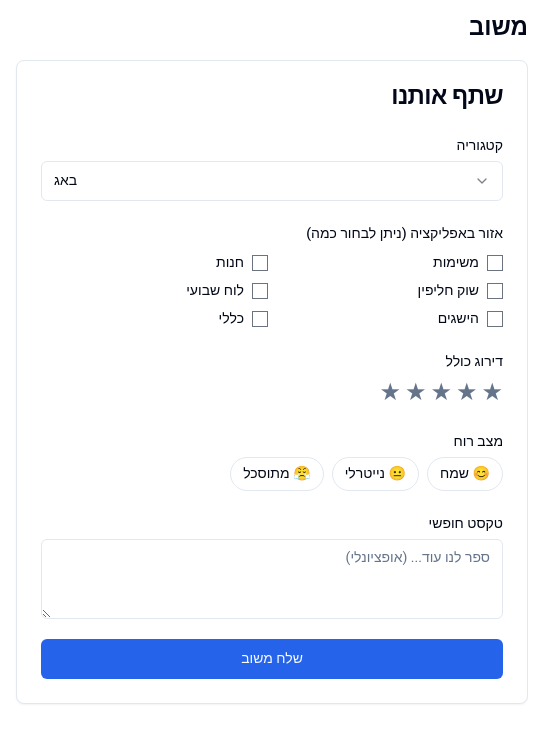
FeedbackPage › shows error message when insert fails
The image size is (540, 732).
Click the button named "2 כוכבים": (467, 393) [456,377,478,409]
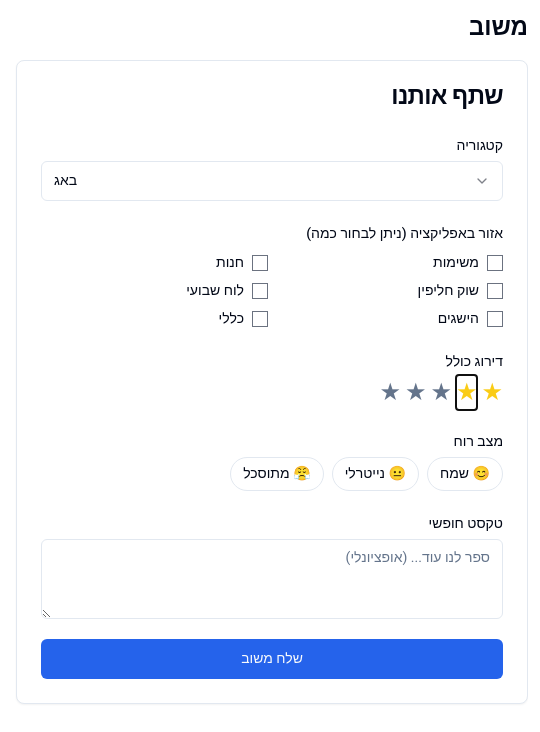
Click the button "😐 נייטרלי": (375, 474) [332,457,419,491]
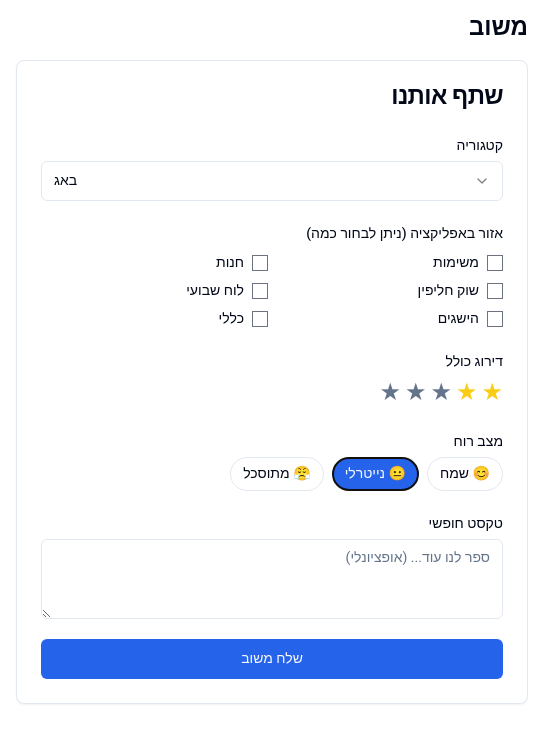
Click the button "שלח משוב": (272, 659) [41,639,503,679]
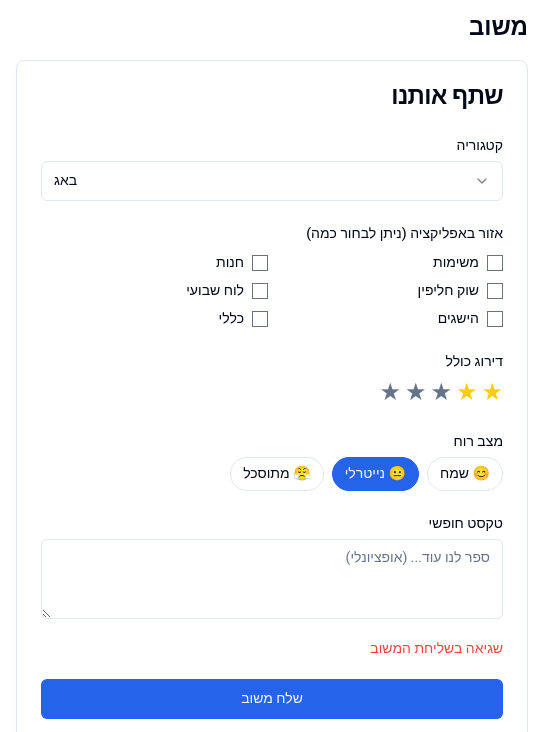
Now the message reads "שגיאה בשליחת המשוב", box [370,638,503,659]
